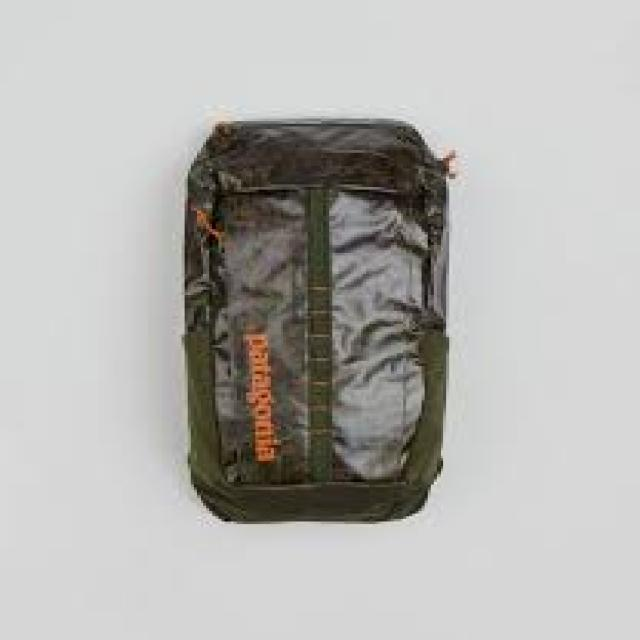backpack: (180, 117, 454, 523)
